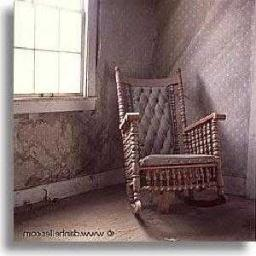Chair: (113, 66, 231, 216)
